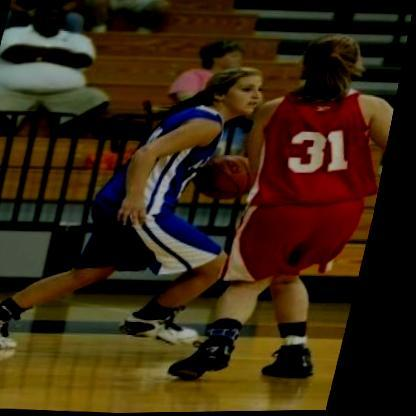basketball: (194, 149, 270, 204)
